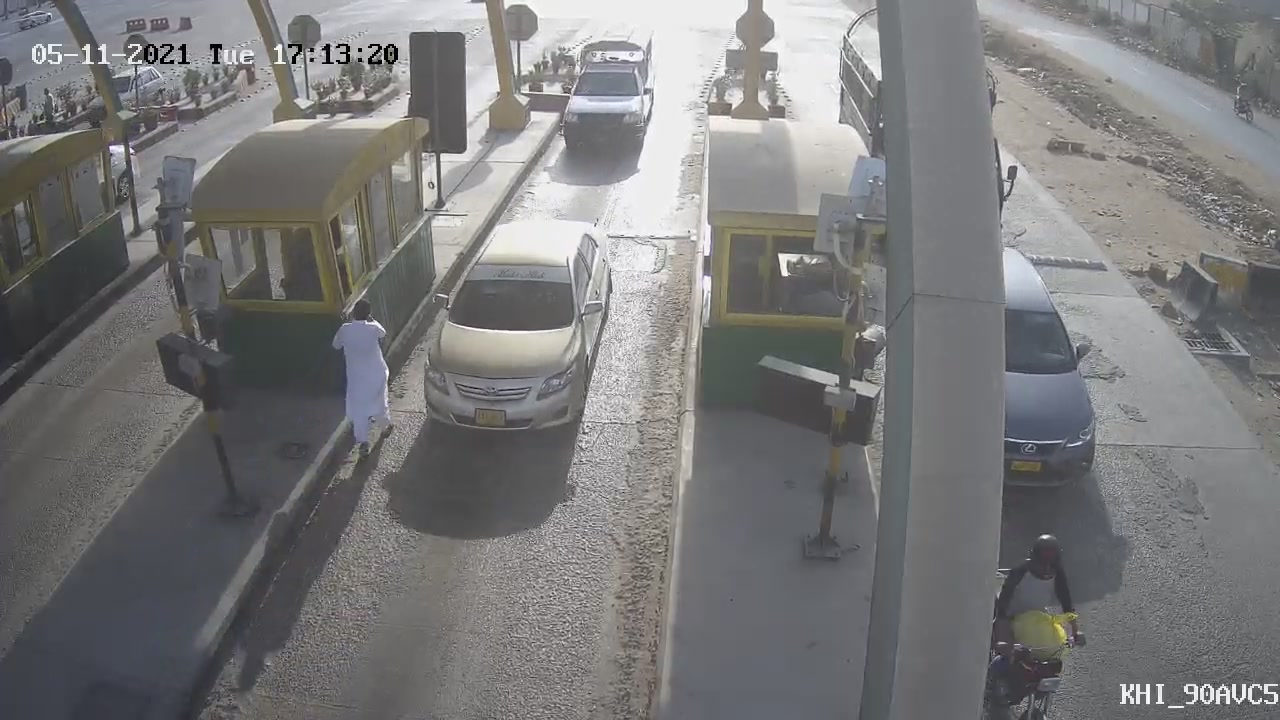F1: (407, 196, 627, 452), (546, 11, 670, 173)
